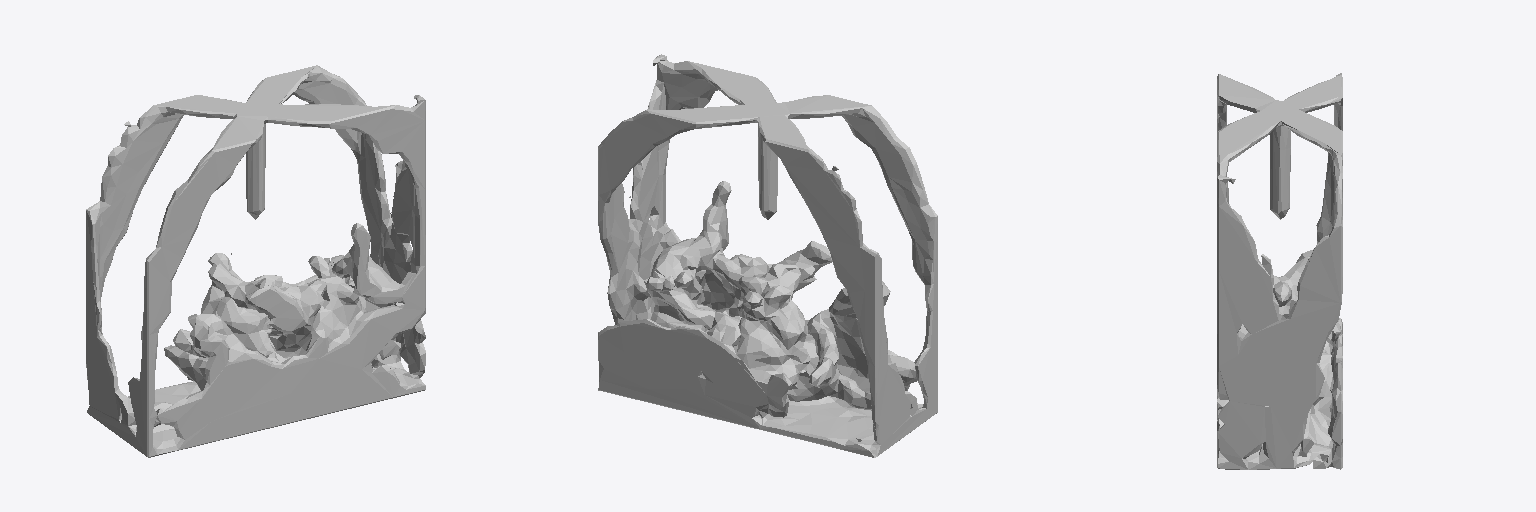
3 views of the same model, side by side, from view 1: azimuth 30°, elevation 25°; view 2: azimuth 150°, elevation 25°; view 3: azimuth 270°, elevation 25° (orthographic).
Visible parts, largest first — view 1: Liquid_Domain; view 2: Liquid_Domain; view 3: Liquid_Domain.
Part boxes in pixels (bbox=[...]): Liquid_Domain: bbox=[86, 65, 425, 457]; Liquid_Domain: bbox=[598, 54, 937, 457]; Liquid_Domain: bbox=[1217, 73, 1342, 469].
Size of the model in its own units: 885 by 884 by 344.